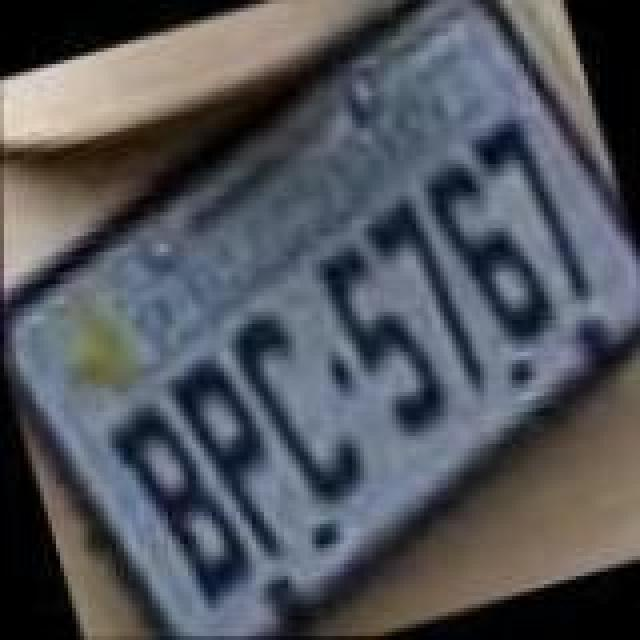5: (310, 228, 454, 452)
6: (416, 146, 560, 358)
7: (358, 188, 494, 412), (466, 106, 598, 318)
B: (102, 386, 262, 630)
C: (226, 292, 374, 520)
P: (160, 350, 296, 578)
